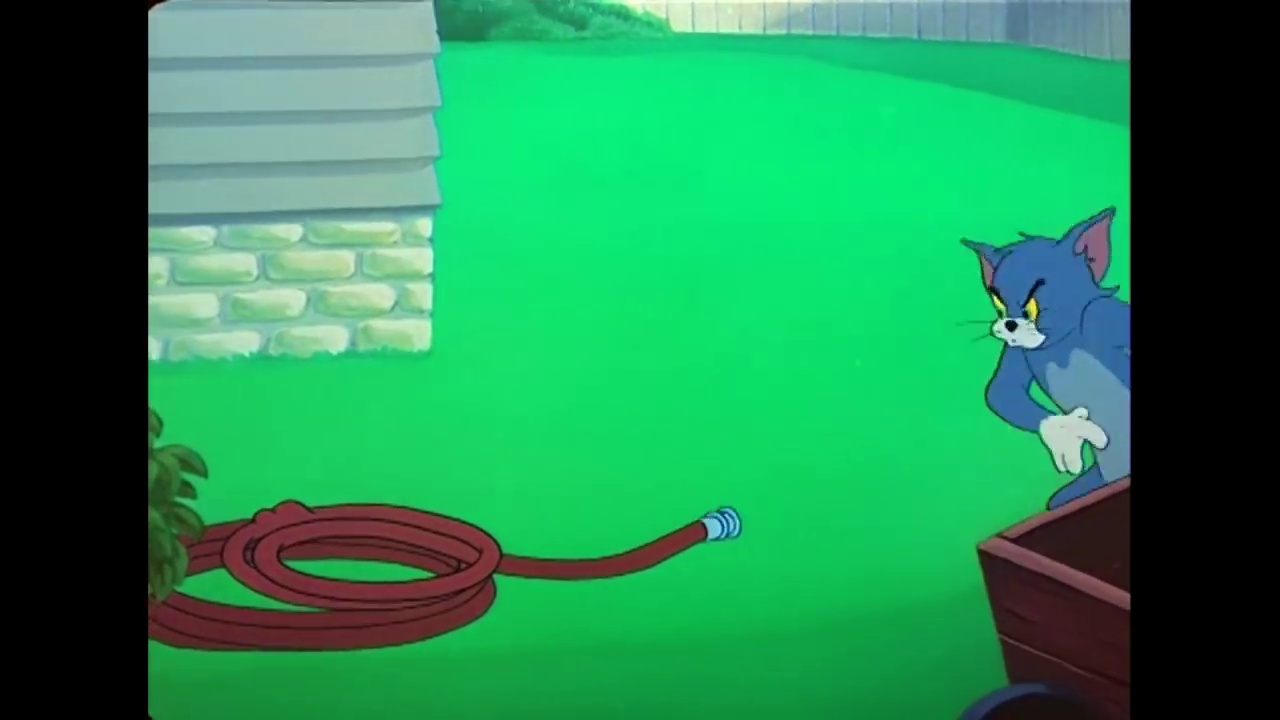tom: (958, 206, 1118, 361)
